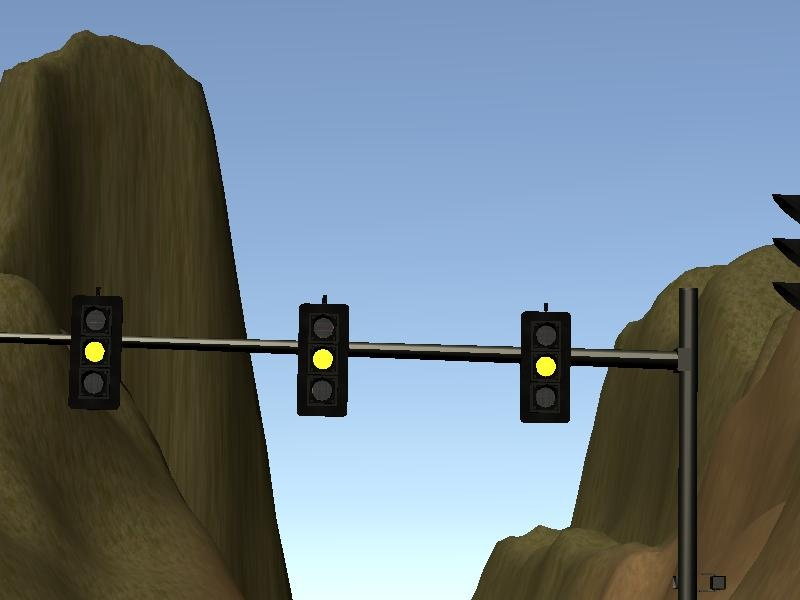YELLOW: (295, 302, 350, 420), (516, 306, 571, 424), (67, 292, 122, 410)
